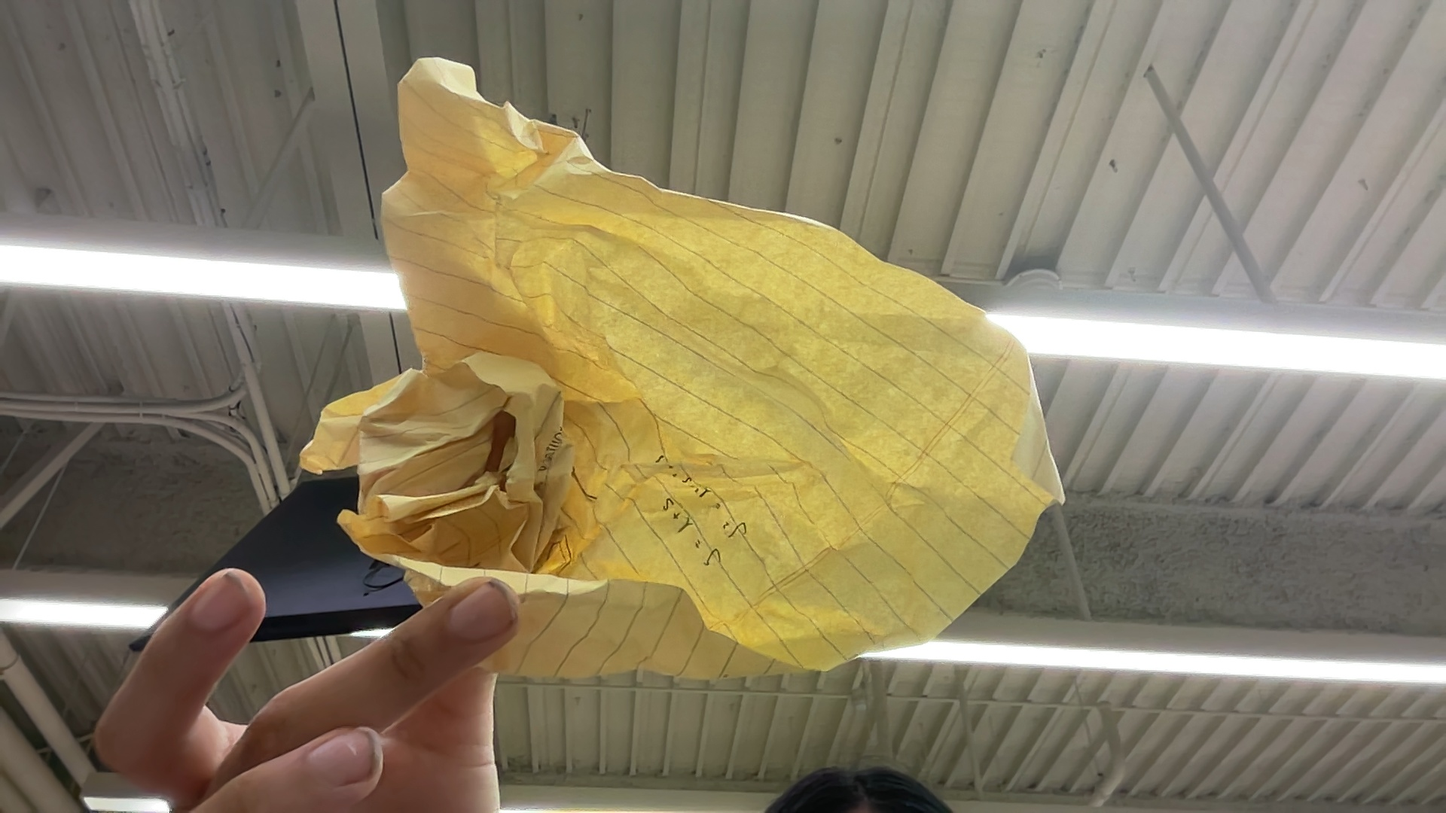Paper: (379, 32, 1078, 653)
